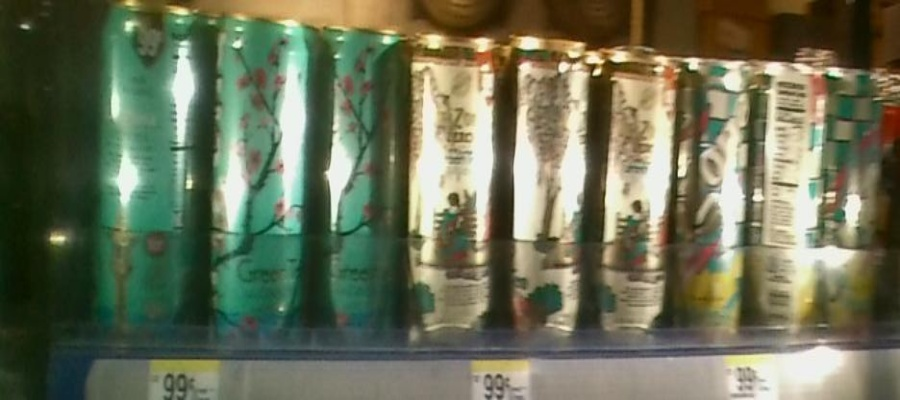bottle: (93, 4, 201, 358), (205, 3, 312, 351), (410, 7, 507, 355), (318, 17, 408, 349), (591, 30, 681, 348), (508, 23, 589, 358), (751, 34, 824, 352), (681, 44, 748, 349), (827, 44, 886, 349)
